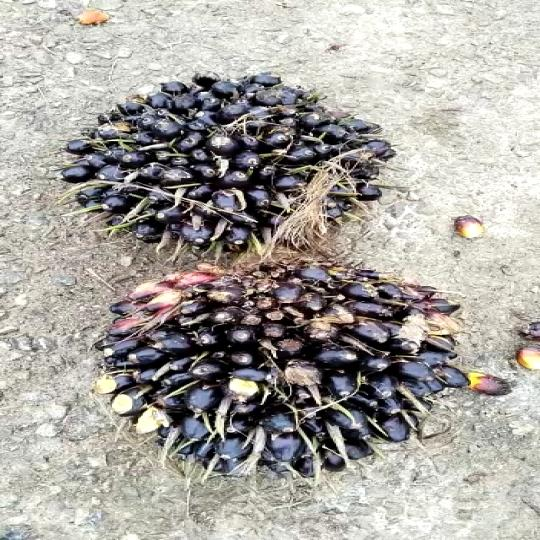mentah: (80, 250, 489, 490), (51, 76, 424, 252)
